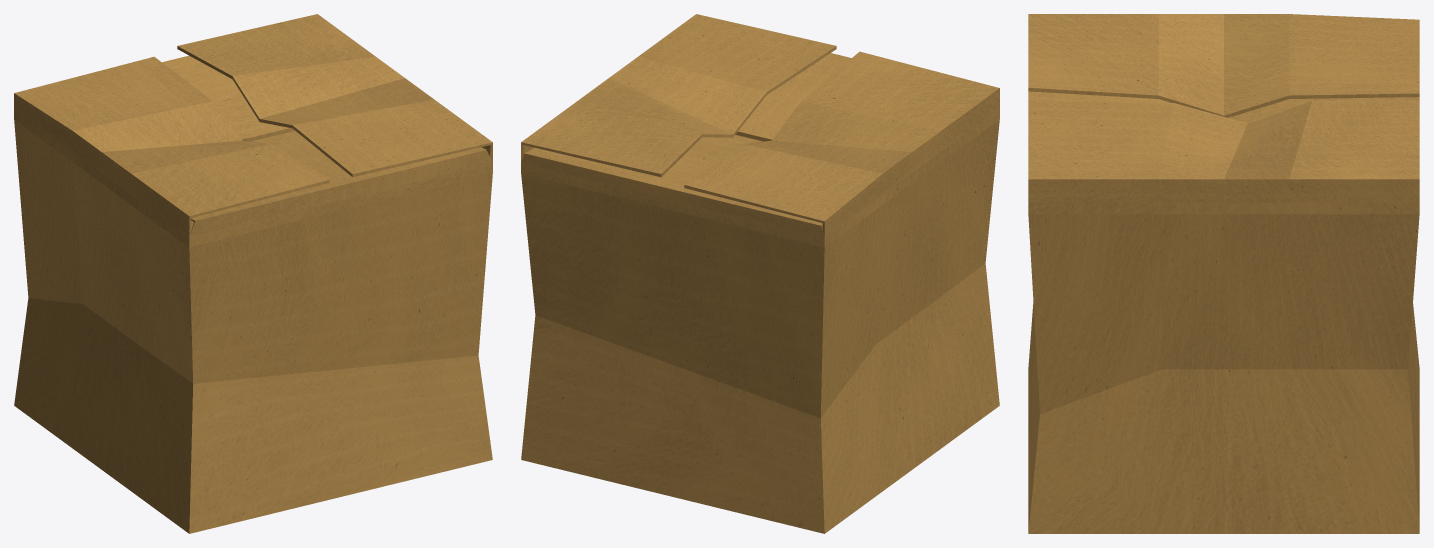
The model's file is Caixa3.fbx.
The picture shows the model from 3 angles, left to right: view 1: azimuth 30°, elevation 25°; view 2: azimuth 150°, elevation 25°; view 3: azimuth 270°, elevation 25°; orthographic projection. The views are drawn at different scales.
Visible parts, largest first — view 1: Cube.002; view 2: Cube.002; view 3: Cube.002.
Part boxes in pixels (x1=…): Cube.002: x1=14, y1=14, x2=492, y2=533; Cube.002: x1=521, y1=14, x2=999, y2=533; Cube.002: x1=1028, y1=14, x2=1419, y2=533.
Bounding box in the file's own units: 2 × 2 × 2.03.
Materials: 1 (1 with a texture image).
